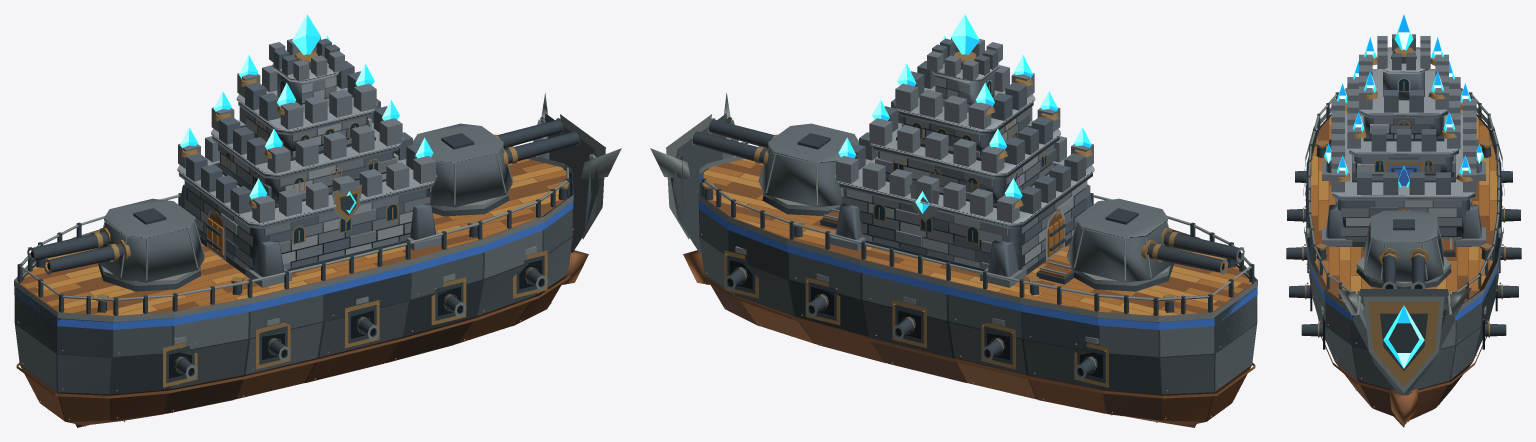
The picture shows the model from 3 angles, left to right: view 1: azimuth 30°, elevation 25°; view 2: azimuth 150°, elevation 25°; view 3: azimuth 270°, elevation 25°; orthographic projection. The views are drawn at different scales.
Parts seen in each view (by area): view 1: castle--stone-gray, hull--iron-slate, castle--stone-cool, hull--iron-shadow, hull--iron-plate-light, castle--stone-worn, deck--deck-shadow, deck--deck-honey, hull--rust-worn, hull--team, hull--rust-brown, hull--iron-edge (+29 smaller); view 2: castle--stone-gray, hull--iron-slate, castle--stone-cool, hull--iron-shadow, hull--iron-plate-light, castle--stone-worn, deck--deck-shadow, hull--rust-worn, deck--deck-honey, hull--rust-umber, hull--team, hull--iron-edge (+29 smaller); view 3: castle--stone-gray, castle--stone-cool, castle--stone-worn, deck--deck-honey, hull--iron-slate, bow--aged-bronze, broadside--gunmetal, bow--iron-edge, deck--deck-shadow, fore-turret--iron-slate, hull--iron-plate-light, fore-turret--iron-plate-light (+32 smaller).
Boxes of the visible parts, box(x1,y1,x2,y2) form: castle--stone-gray: box(178, 38, 441, 287); hull--iron-slate: box(15, 201, 572, 394); castle--stone-cool: box(179, 38, 435, 276); hull--iron-shadow: box(14, 160, 573, 394); hull--iron-plate-light: box(15, 230, 572, 391); castle--stone-worn: box(177, 62, 436, 270); deck--deck-shadow: box(20, 160, 568, 315); deck--deck-honey: box(22, 159, 566, 315); hull--rust-worn: box(16, 251, 571, 421); hull--team: box(14, 174, 573, 329); hull--rust-brown: box(20, 276, 566, 425); hull--iron-edge: box(14, 156, 573, 322); castle--stone-gray: box(830, 38, 1093, 287); hull--iron-slate: box(699, 201, 1256, 394); castle--stone-cool: box(836, 38, 1092, 276); hull--iron-shadow: box(699, 160, 1257, 394); hull--iron-plate-light: box(698, 185, 1256, 391); castle--stone-worn: box(835, 62, 1094, 267); deck--deck-shadow: box(703, 160, 1251, 315); hull--rust-worn: box(700, 251, 1255, 421); deck--deck-honey: box(703, 160, 1251, 315); hull--rust-umber: box(705, 275, 1251, 427); hull--team: box(698, 173, 1257, 329); hull--iron-edge: box(698, 156, 1257, 322); castle--stone-gray: box(1322, 36, 1485, 246); castle--stone-cool: box(1326, 34, 1481, 241); castle--stone-worn: box(1331, 47, 1476, 226); deck--deck-honey: box(1310, 109, 1497, 290); hull--iron-slate: box(1305, 165, 1502, 390); bow--aged-bronze: box(1364, 301, 1443, 386); broadside--gunmetal: box(1286, 170, 1521, 336); bow--iron-edge: box(1336, 287, 1471, 392); deck--deck-shadow: box(1310, 110, 1497, 302); fore-turret--iron-slate: box(1364, 225, 1443, 281); hull--iron-plate-light: box(1307, 159, 1502, 379); fore-turret--iron-plate-light: box(1370, 210, 1437, 243).
Size of the model in its own units: 2.55 by 1.57 by 1.06.
